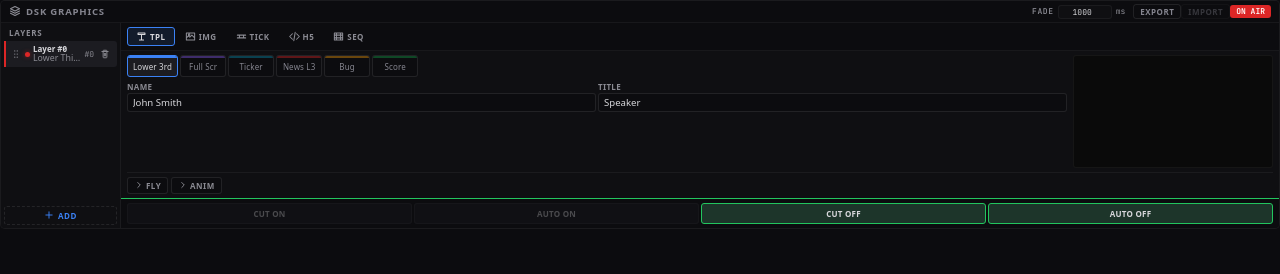
Test: GraphicsPanel › should show fly controls after clicking FLY disclosure
Click the button with class "disclosure" showing "FLY". click: (148, 185)
box: [127,176,168,194]
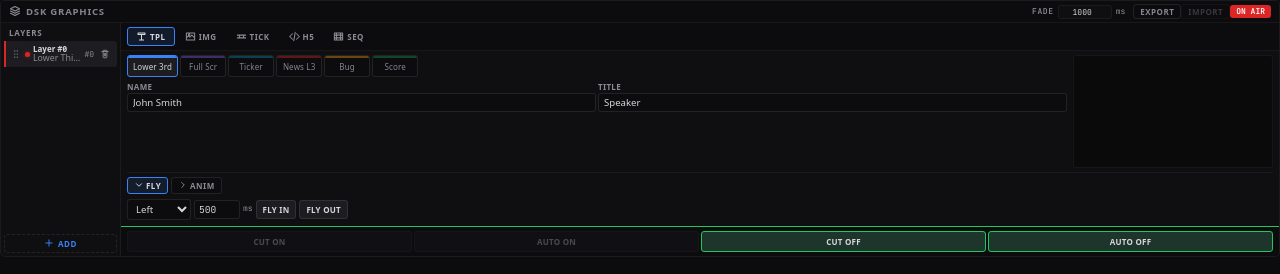
Check: the number of buttons with class "fly" is 2, box [256,200,296,218]; [299,200,348,218]
